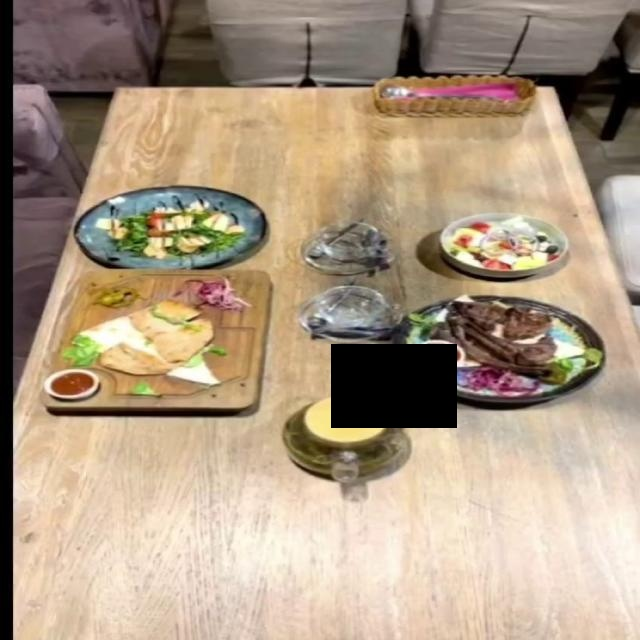meat: (38, 270, 269, 411), (390, 294, 606, 404)
salad: (72, 185, 266, 267), (437, 211, 571, 276)
tea: (280, 392, 410, 481)
